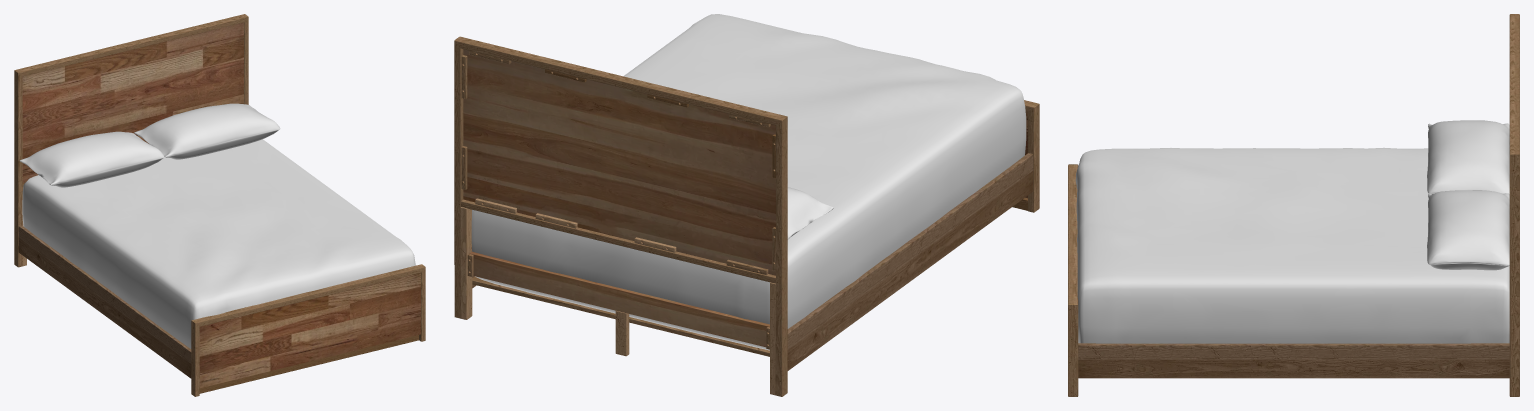
3 renders of one model, left to right at view 1: azimuth 30°, elevation 25°; view 2: azimuth 150°, elevation 25°; view 3: azimuth 270°, elevation 25°, orthographic. The views are drawn at different scales.
Parts seen in each view (by area): view 1: RootNode; view 2: RootNode; view 3: RootNode.
Boxes of the visible parts, x1,y1,x2,y2 form: RootNode: (14, 14, 425, 396); RootNode: (454, 14, 1039, 396); RootNode: (1068, 14, 1519, 396).
Bounding box in the file's own units: 1.61 × 1.3 × 2.18.
1 material, 1 textured.
